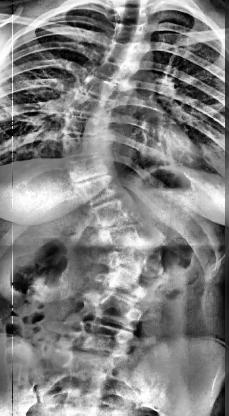Vertebrae: (76, 322, 132, 354), (97, 296, 146, 328), (88, 74, 132, 106), (111, 247, 161, 275), (76, 175, 128, 201), (93, 197, 135, 229), (104, 224, 160, 247), (111, 20, 160, 46), (68, 113, 114, 139), (74, 93, 118, 120), (64, 136, 112, 160), (96, 61, 144, 85), (106, 274, 152, 298), (70, 156, 114, 180), (106, 42, 148, 64), (110, 6, 154, 26)
